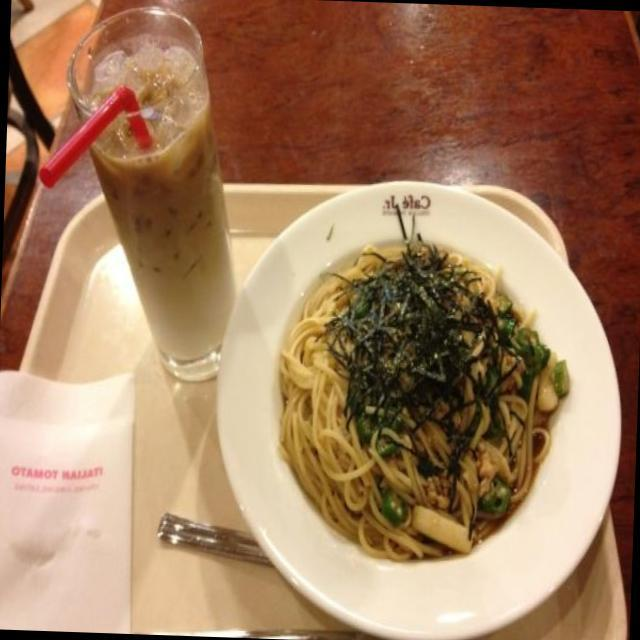Pasta: (271, 230, 553, 554)
